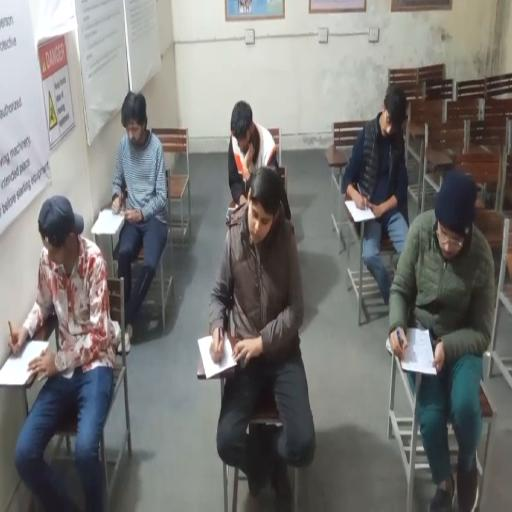paper: (0, 340, 49, 386), (0, 341, 48, 386), (198, 332, 236, 379), (402, 326, 438, 374), (199, 335, 236, 378), (401, 329, 436, 374), (92, 208, 125, 234), (92, 210, 124, 235), (344, 199, 376, 223), (22, 339, 49, 365), (345, 201, 374, 222)
